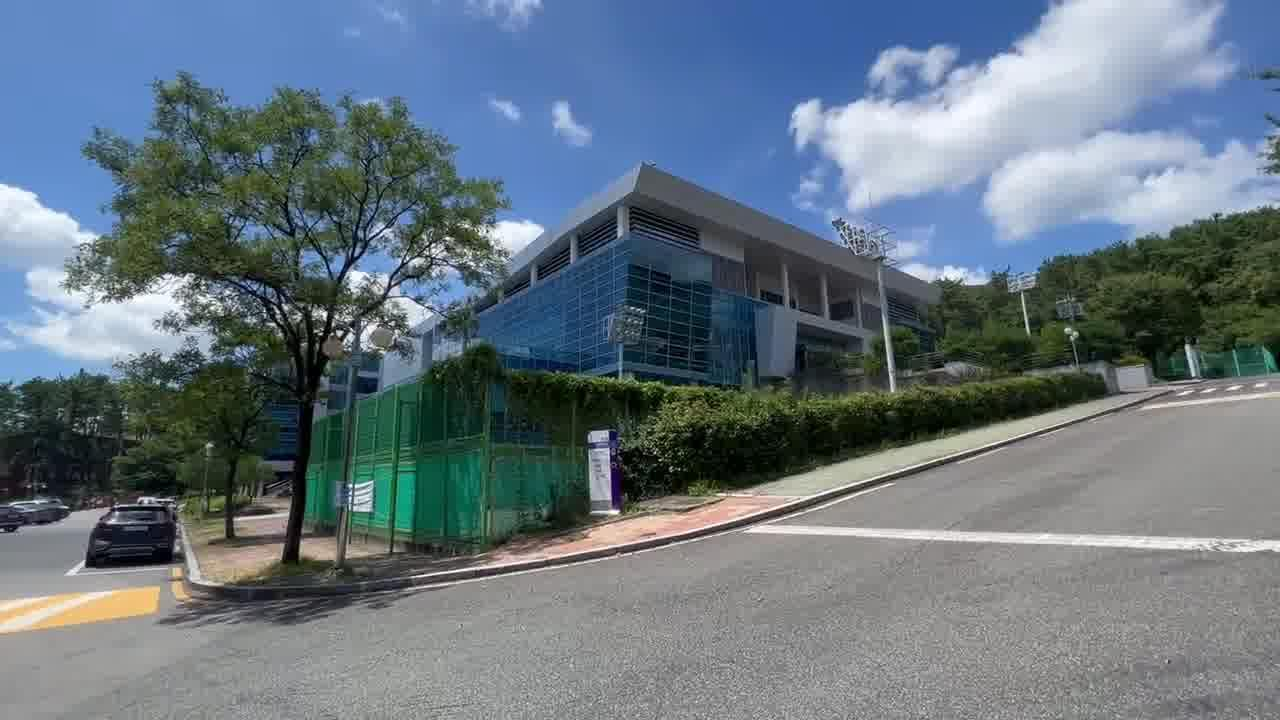building: (532, 157, 901, 379)
